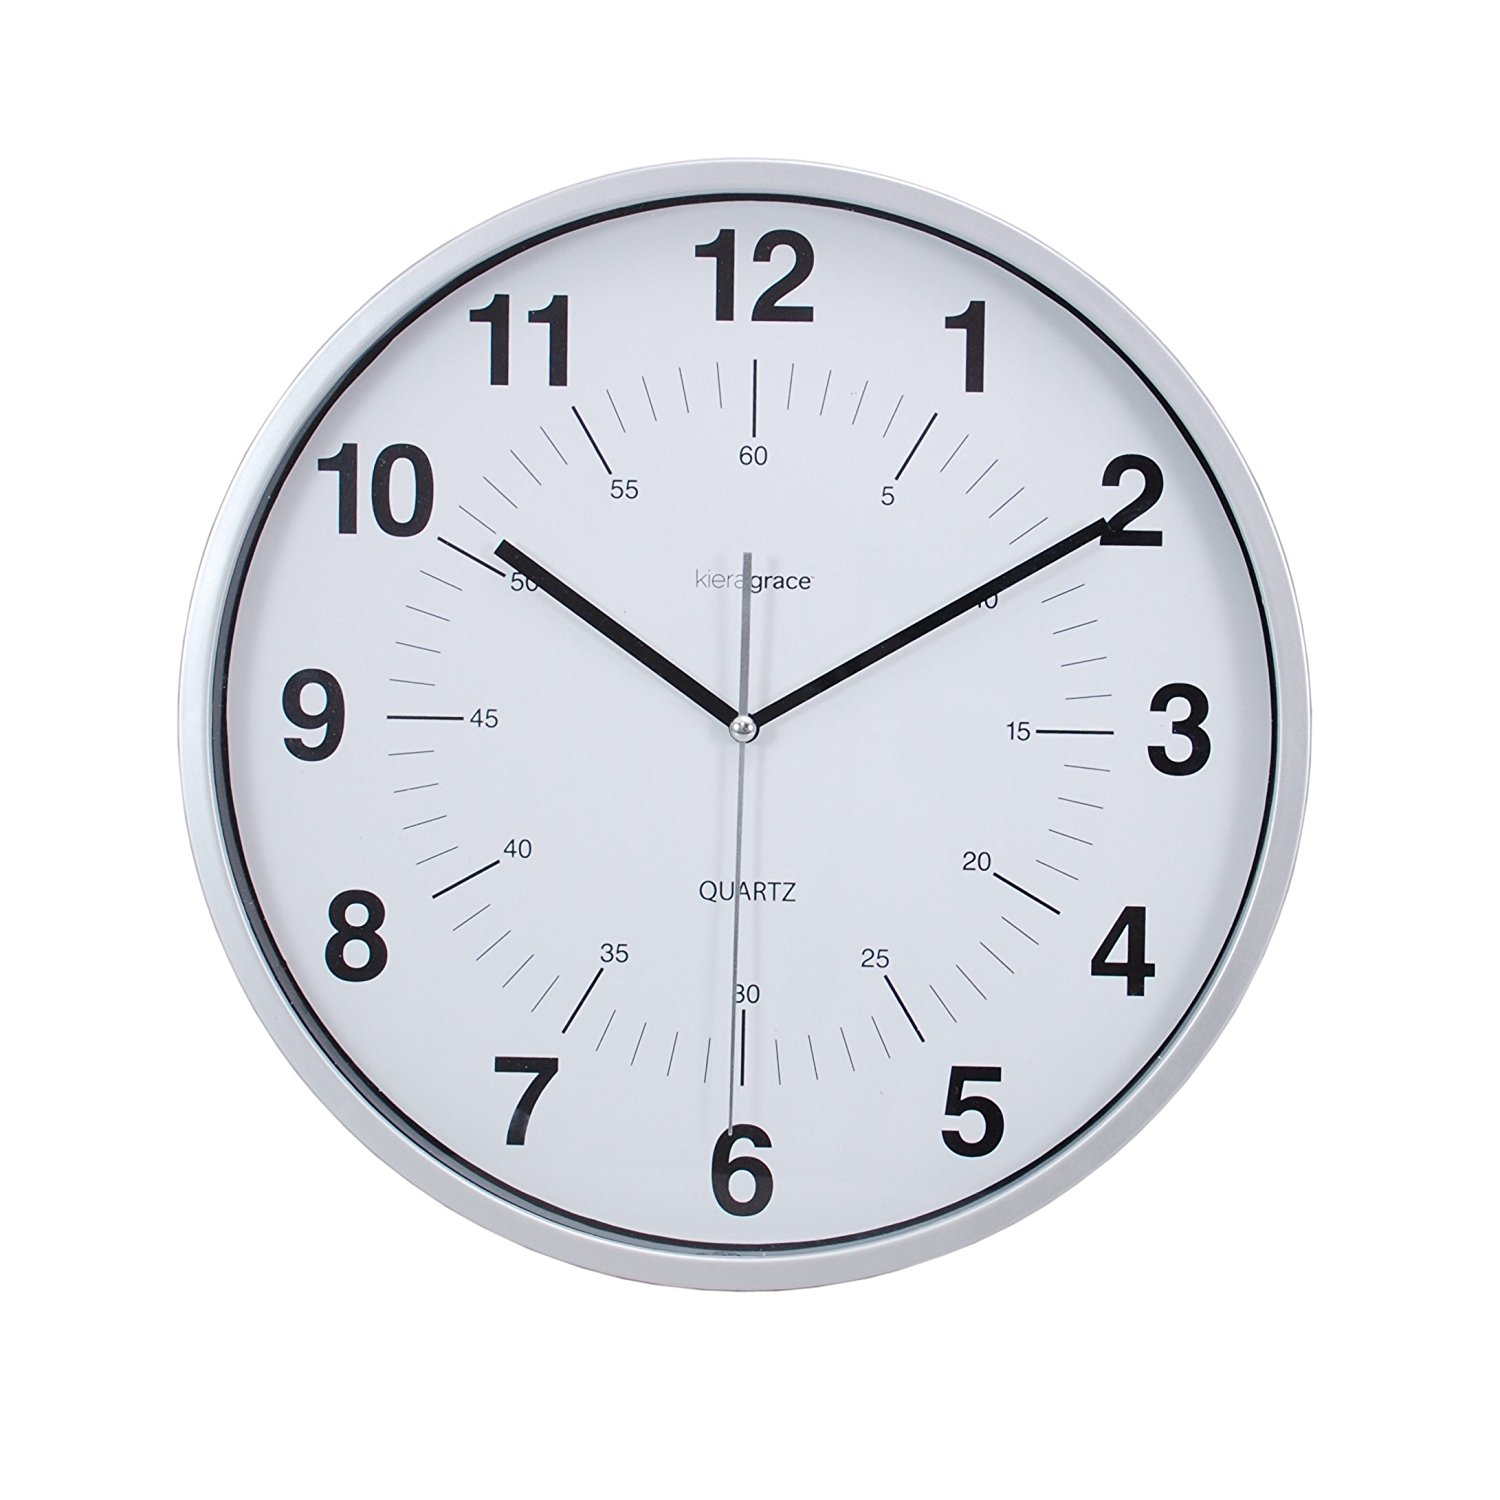clock: (179, 159, 1310, 1294)
